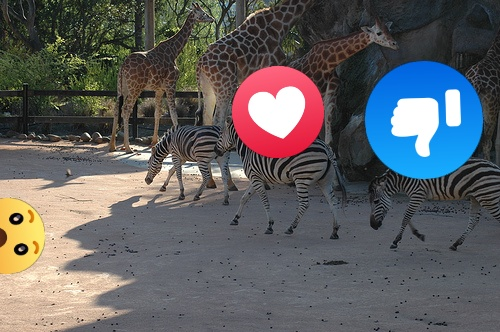like: (365, 61, 483, 179)
love: (232, 66, 324, 158)
wow: (0, 198, 45, 274)
